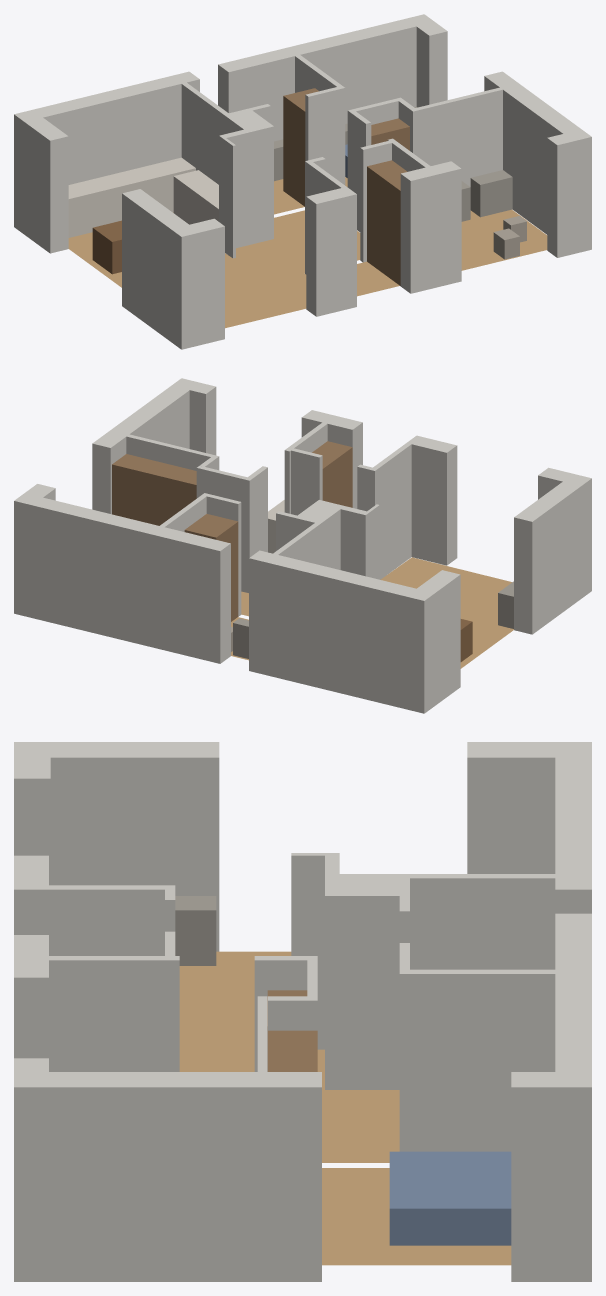
3 views of the same model, one above another, from view 1: azimuth 30°, elevation 25°; view 2: azimuth 150°, elevation 25°; view 3: azimuth 270°, elevation 25° (orthographic). The views are drawn at different scales.
Visible parts, largest first — view 1: w1, w9, w26, w23, r1, w15, w4, w17, f1-szafka, w11, f21-szafa, w19 (+23 smaller); view 2: w9, w1, w26, w4, w23, f14-szafa, r1, w28, w17, w13, w3, f21-szafa (+20 smaller); view 3: w23, w26, w20, w19, w27, r1, w18, w9, w17, f13-lozko, w28, w21 (+13 smaller).
Part boxes in pixels (x1=…): w1: x1=14, y1=71, x2=199, y2=234; w9: x1=218, y1=14, x2=434, y2=141; w26: x1=122, y1=189, x2=199, y2=349; w23: x1=484, y1=71, x2=591, y2=253; r1: x1=68, y1=210, x2=360, y2=328; w15: x1=410, y1=87, x2=502, y2=186; w4: x1=306, y1=188, x2=351, y2=316; w17: x1=24, y1=117, x2=68, y2=253; f1-szafka: x1=68, y1=157, x2=195, y2=237; w11: x1=400, y1=167, x2=435, y2=293; f21-szafa: x1=367, y1=160, x2=407, y2=285; w19: x1=223, y1=108, x2=273, y2=245; w9: x1=14, y1=493, x2=230, y2=663; w1: x1=249, y1=550, x2=434, y2=713; w26: x1=514, y1=474, x2=591, y2=634; w4: x1=411, y1=437, x2=457, y2=565; w23: x1=92, y1=378, x2=199, y2=514; f14-szafa: x1=112, y1=454, x2=196, y2=525; r1: x1=241, y1=557, x2=513, y2=668; w28: x1=370, y1=435, x2=421, y2=579; w17: x1=417, y1=570, x2=460, y2=705; w13: x1=196, y1=465, x2=252, y2=592; w3: x1=340, y1=506, x2=369, y2=577; f21-szafa: x1=312, y1=441, x2=352, y2=507; w23: x1=14, y1=1072, x2=321, y2=1281; w26: x1=14, y1=742, x2=219, y2=951; w20: x1=399, y1=969, x2=555, y2=1151; w19: x1=325, y1=874, x2=409, y2=1089; w27: x1=14, y1=956, x2=179, y2=1071; r1: x1=179, y1=951, x2=399, y2=1162; w18: x1=410, y1=874, x2=555, y2=969; w9: x1=555, y1=913, x2=591, y2=1281; w17: x1=467, y1=742, x2=555, y2=873; f13-lozko: x1=389, y1=1151, x2=511, y2=1245; w28: x1=14, y1=885, x2=175, y2=955; w21: x1=511, y1=1072, x2=555, y2=1281.
Bounding box in the file's own units: 9.9 × 2.6 × 7.
